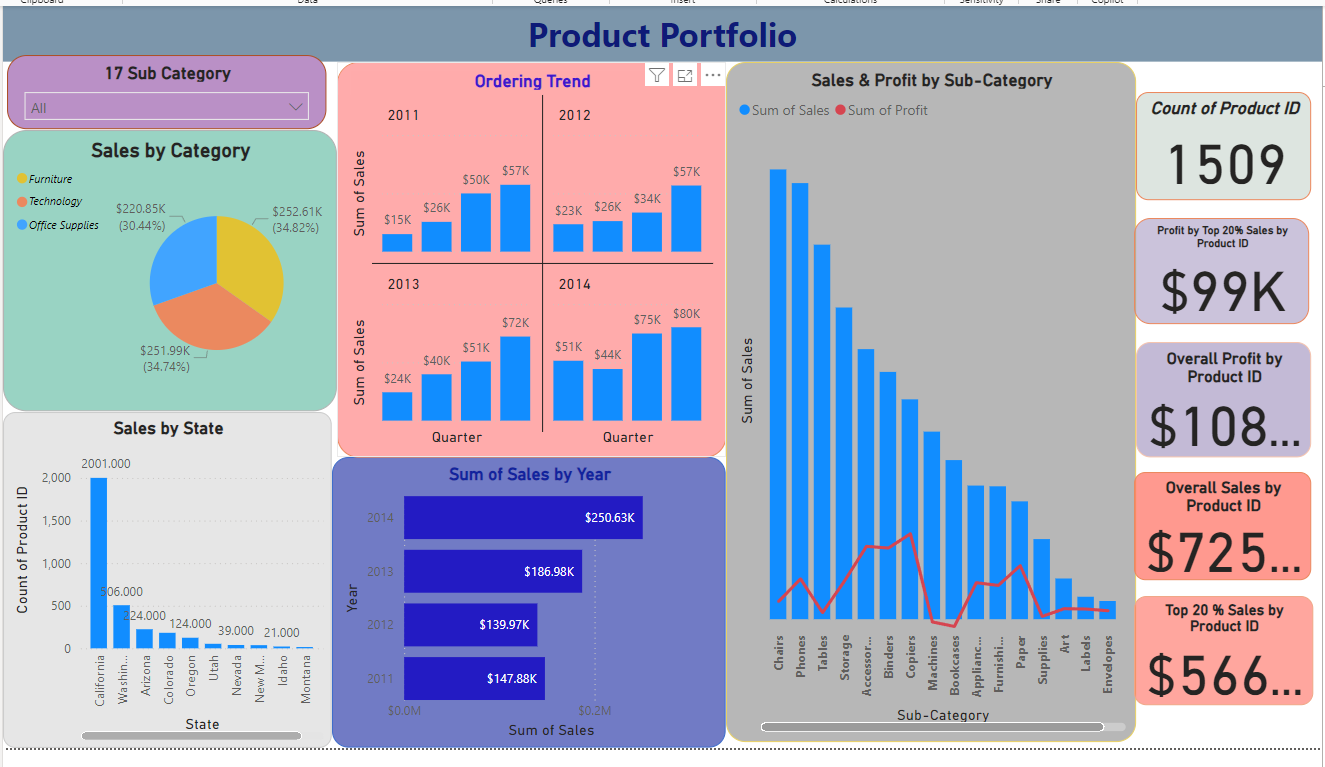

This screenshot's page, from the dashboard's own definition file:
{"tool":"powerbi","page":{"name":"Product Portfolio","canvas":[1280,720],"ordinal":1},"visuals":[{"type":"textbox","box":[0,0,1280,54.2],"z":0},{"type":"barChart","fields":{"Y":["Sum(Walmart.Sales)"],"Category":["Walmart.Order Date.Variation.Date Hierarchy.Year"]},"box":[319.3,438,382.2,281.8],"z":1000},{"type":"slicer","title":"17 Sub Category","fields":{"Values":["Walmart.Sub-Category"]},"box":[4.4,48,309.7,71.5],"z":2000},{"type":"columnChart","title":"Ordering Trend","fields":{"Category":["Walmart.Order Date.Variation.Date Hierarchy.Quarter"],"Y":["Sum(Walmart.Sales)"],"Rows":["Walmart.Order Date.Variation.Date Hierarchy.Year"]},"box":[323.7,54.1,377.8,383.9],"z":3000},{"type":"lineStackedColumnComboChart","title":"Sales & Profit by Sub-Category","fields":{"Category":["Walmart.Sub-Category"],"Y":["Sum(Walmart.Sales)"],"Y2":["Sum(Walmart.Profit)"]},"box":[701.5,54.1,397.9,659.6],"z":4000},{"type":"card","title":"Profit by Top 20% Sales  by Product ID","fields":{"Values":["Sum(Walmart.Profit)"]},"box":[1097.6,205.9,170.1,103],"z":5000},{"type":"card","title":"Count of Product ID","fields":{"Values":["Count(Walmart.Product ID)"]},"box":[1099.4,83.8,170.1,104.7],"z":6000},{"type":"card","title":"Overall Profit by Product ID","fields":{"Values":["Sum(Walmart.Profit)"]},"box":[1099.4,326.3,170.1,111.7],"z":7000},{"type":"card","title":"Overall Sales  by Product ID","fields":{"Values":["Sum(Walmart.Sales)"]},"box":[1097.6,452,171.9,104.7],"z":8000},{"type":"card","title":"Top 20 % Sales  by Product ID","fields":{"Values":["Sum(Walmart.Sales)"]},"box":[1097.6,572.4,173.6,105.6],"z":9000},{"type":"pieChart","title":"Sales by Category","fields":{"Category":["Walmart.Category"],"Y":["Sum(Walmart.Sales)"]},"box":[0,120.4,323.7,273.1],"z":10000},{"type":"columnChart","title":"Sales by State","fields":{"Category":["Walmart.State"],"Y":["CountNonNull(Walmart.Product ID)"]},"box":[0,393.5,319.3,326.3],"z":11000}]}

Visuals, with their boxes on the page's 1280x720 design canvas (x1, y1, x2, y2). These are canvas units, not pixel positions in the 1325x767 screenshot, which may show the page scaled, cropped or inside an application window:
textbox: 0, 0, 1280, 54
barChart - Sum(Walmart.Sales) x Walmart.Order Date.Variation.Date Hierarchy.Year: 319, 438, 702, 720
"17 Sub Category" slicer: 4, 48, 314, 120
"Ordering Trend" columnChart: 324, 54, 702, 438
"Sales & Profit by Sub-Category" lineStackedColumnComboChart: 702, 54, 1099, 714
"Profit by Top 20% Sales  by Product ID" card: 1098, 206, 1268, 309
"Count of Product ID" card: 1099, 84, 1270, 188
"Overall Profit by Product ID" card: 1099, 326, 1270, 438
"Overall Sales  by Product ID" card: 1098, 452, 1270, 557
"Top 20 % Sales  by Product ID" card: 1098, 572, 1271, 678
"Sales by Category" pieChart: 0, 120, 324, 394
"Sales by State" columnChart: 0, 394, 319, 720
